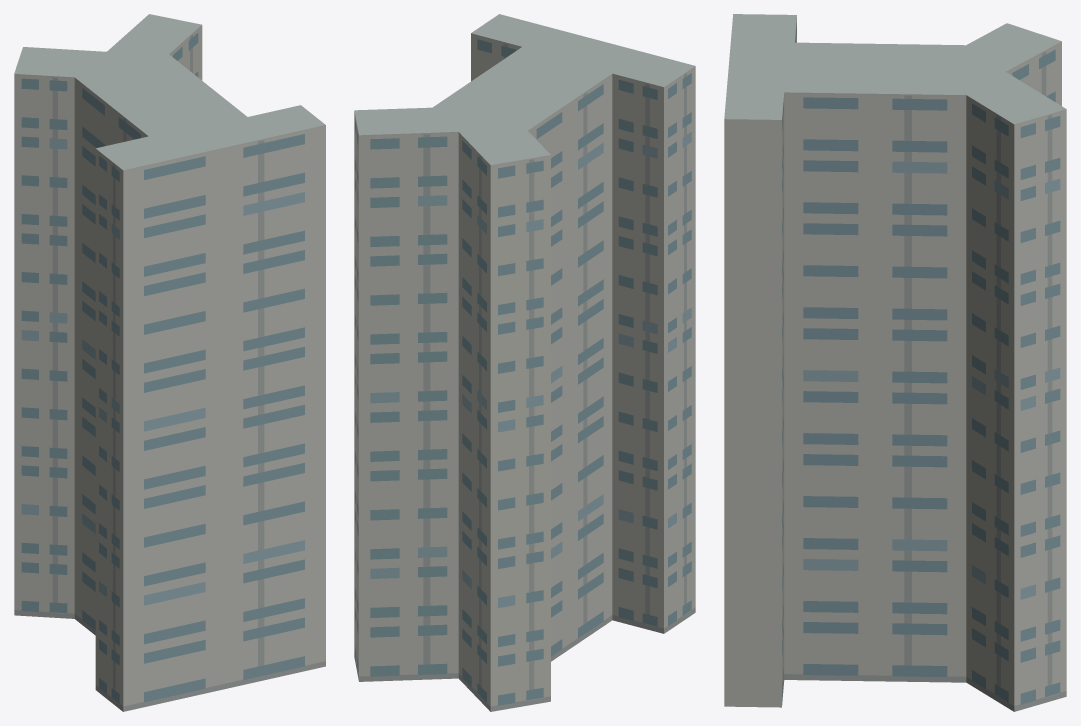
Rendered from residential-14bb3452-e50a-4654-81c9-9847dc762147.glb.
3 renders of one model, left to right at view 1: azimuth 30°, elevation 25°; view 2: azimuth 150°, elevation 25°; view 3: azimuth 270°, elevation 25°, orthographic. The views are drawn at different scales.
Visible parts, largest first — view 1: residential-14bb3452-e50a-4654-81c9-9847dc762147.tmp; view 2: residential-14bb3452-e50a-4654-81c9-9847dc762147.tmp; view 3: residential-14bb3452-e50a-4654-81c9-9847dc762147.tmp.
Boxes of the visible parts, x1=… form: residential-14bb3452-e50a-4654-81c9-9847dc762147.tmp: x1=14, y1=14, x2=325, y2=711; residential-14bb3452-e50a-4654-81c9-9847dc762147.tmp: x1=354, y1=14, x2=695, y2=711; residential-14bb3452-e50a-4654-81c9-9847dc762147.tmp: x1=724, y1=14, x2=1066, y2=711.
Bounding box in the file's own units: 40.32 × 100 × 52.83.
